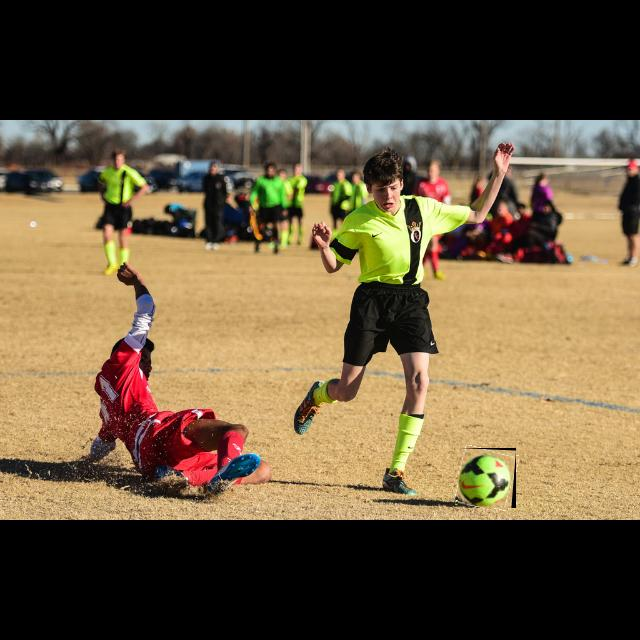Football: (458, 448, 516, 508)
